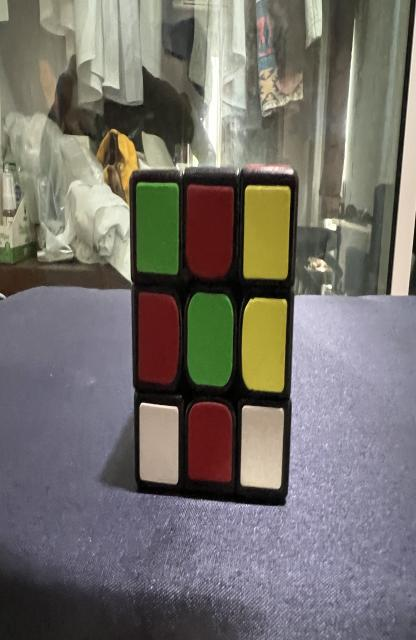Green: (187, 292, 234, 387), (136, 182, 179, 275)
Red: (186, 183, 234, 278), (138, 292, 180, 385), (188, 402, 232, 483)
White: (240, 405, 284, 490), (140, 403, 179, 485)
Yellow: (243, 185, 291, 280), (241, 298, 288, 392)
